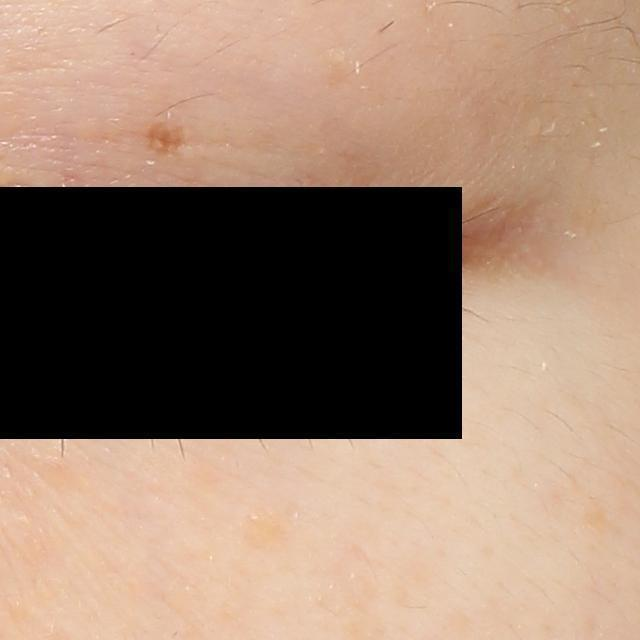melasma: (147, 119, 191, 158)
